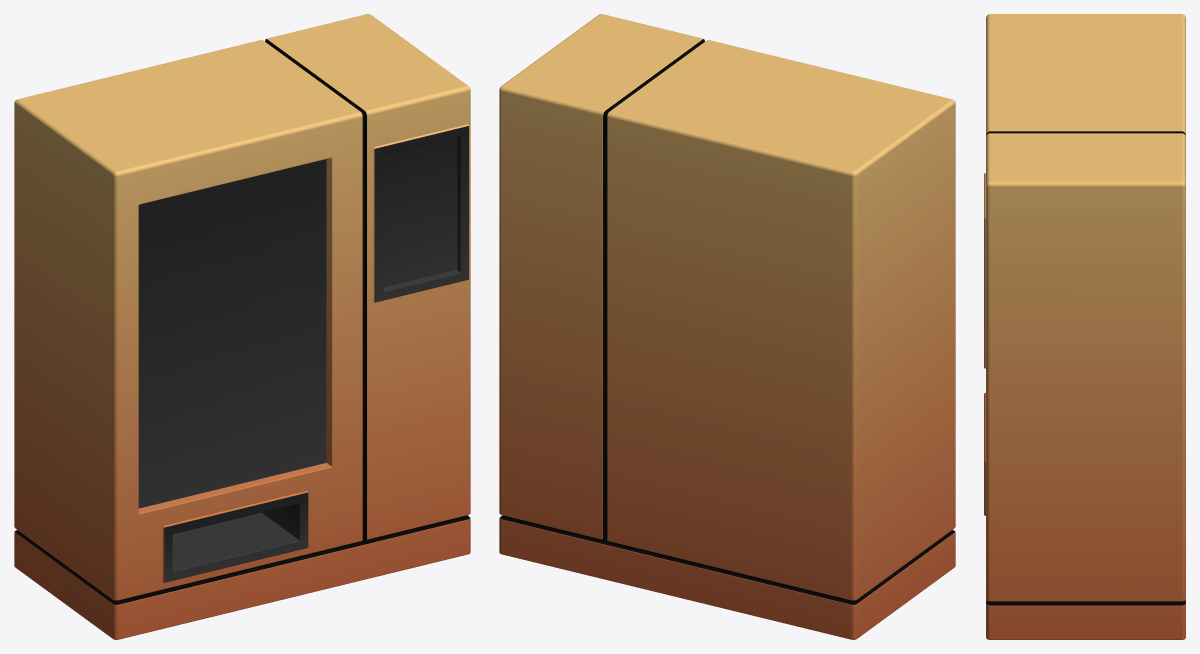
Rendered from HH_VendingMachine.fbx.
3 views of the same model, side by side, from view 1: azimuth 30°, elevation 25°; view 2: azimuth 150°, elevation 25°; view 3: azimuth 270°, elevation 25° (orthographic). The views are drawn at different scales.
Visible parts, largest first — view 1: VendingMachine.001; view 2: VendingMachine.001; view 3: VendingMachine.001.
Boxes of the visible parts, bbox=[...] form: VendingMachine.001: bbox=[14, 14, 470, 639]; VendingMachine.001: bbox=[499, 14, 955, 639]; VendingMachine.001: bbox=[984, 14, 1185, 639].
Bounding box in the file's own units: 200 × 250 × 100.
1 material, 1 textured.
